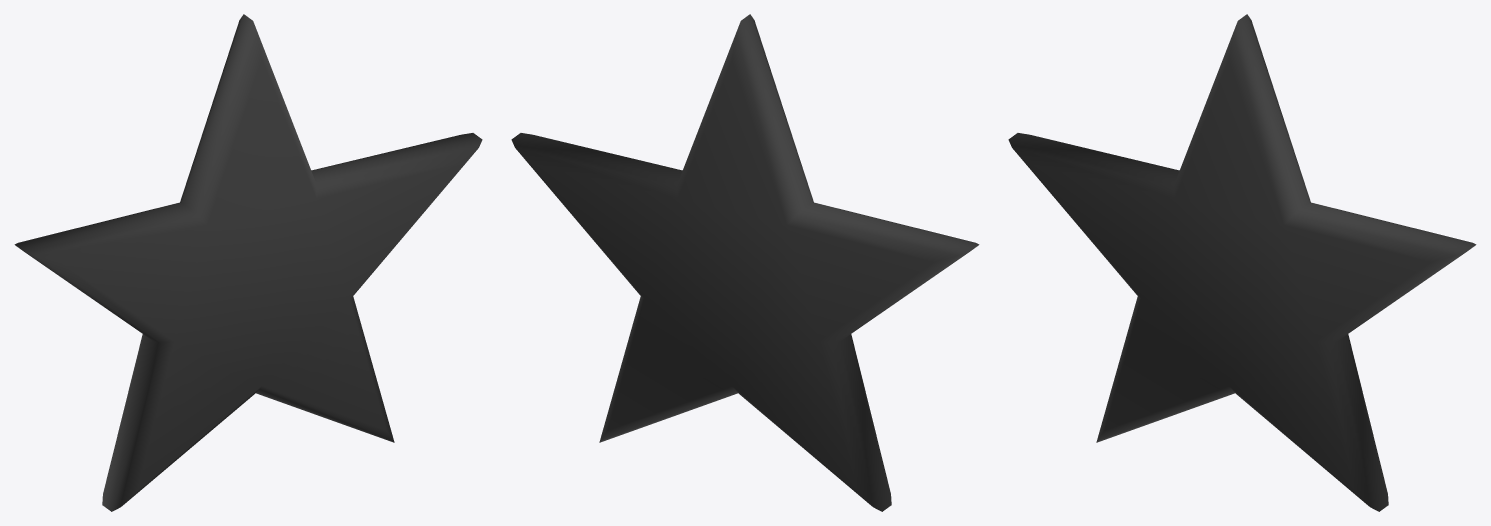
The model's file is 122886ea-d919-432a-99e2-2bac77d17291.glb.
3 renders of one model, left to right at view 1: azimuth 30°, elevation 25°; view 2: azimuth 150°, elevation 25°; view 3: azimuth 330°, elevation 25°, orthographic.
Parts seen in each view (by area): view 1: IndicatorStarBlack; view 2: IndicatorStarBlack; view 3: IndicatorStarBlack.
Part boxes in pixels (left/top/right/bottom): IndicatorStarBlack: left=14, top=14, right=482, bottom=511; IndicatorStarBlack: left=511, top=14, right=979, bottom=511; IndicatorStarBlack: left=1008, top=14, right=1476, bottom=511.
Size of the model in its own units: 0.5617 by 0.5341 by 0.0567.
1 material, 1 textured.
